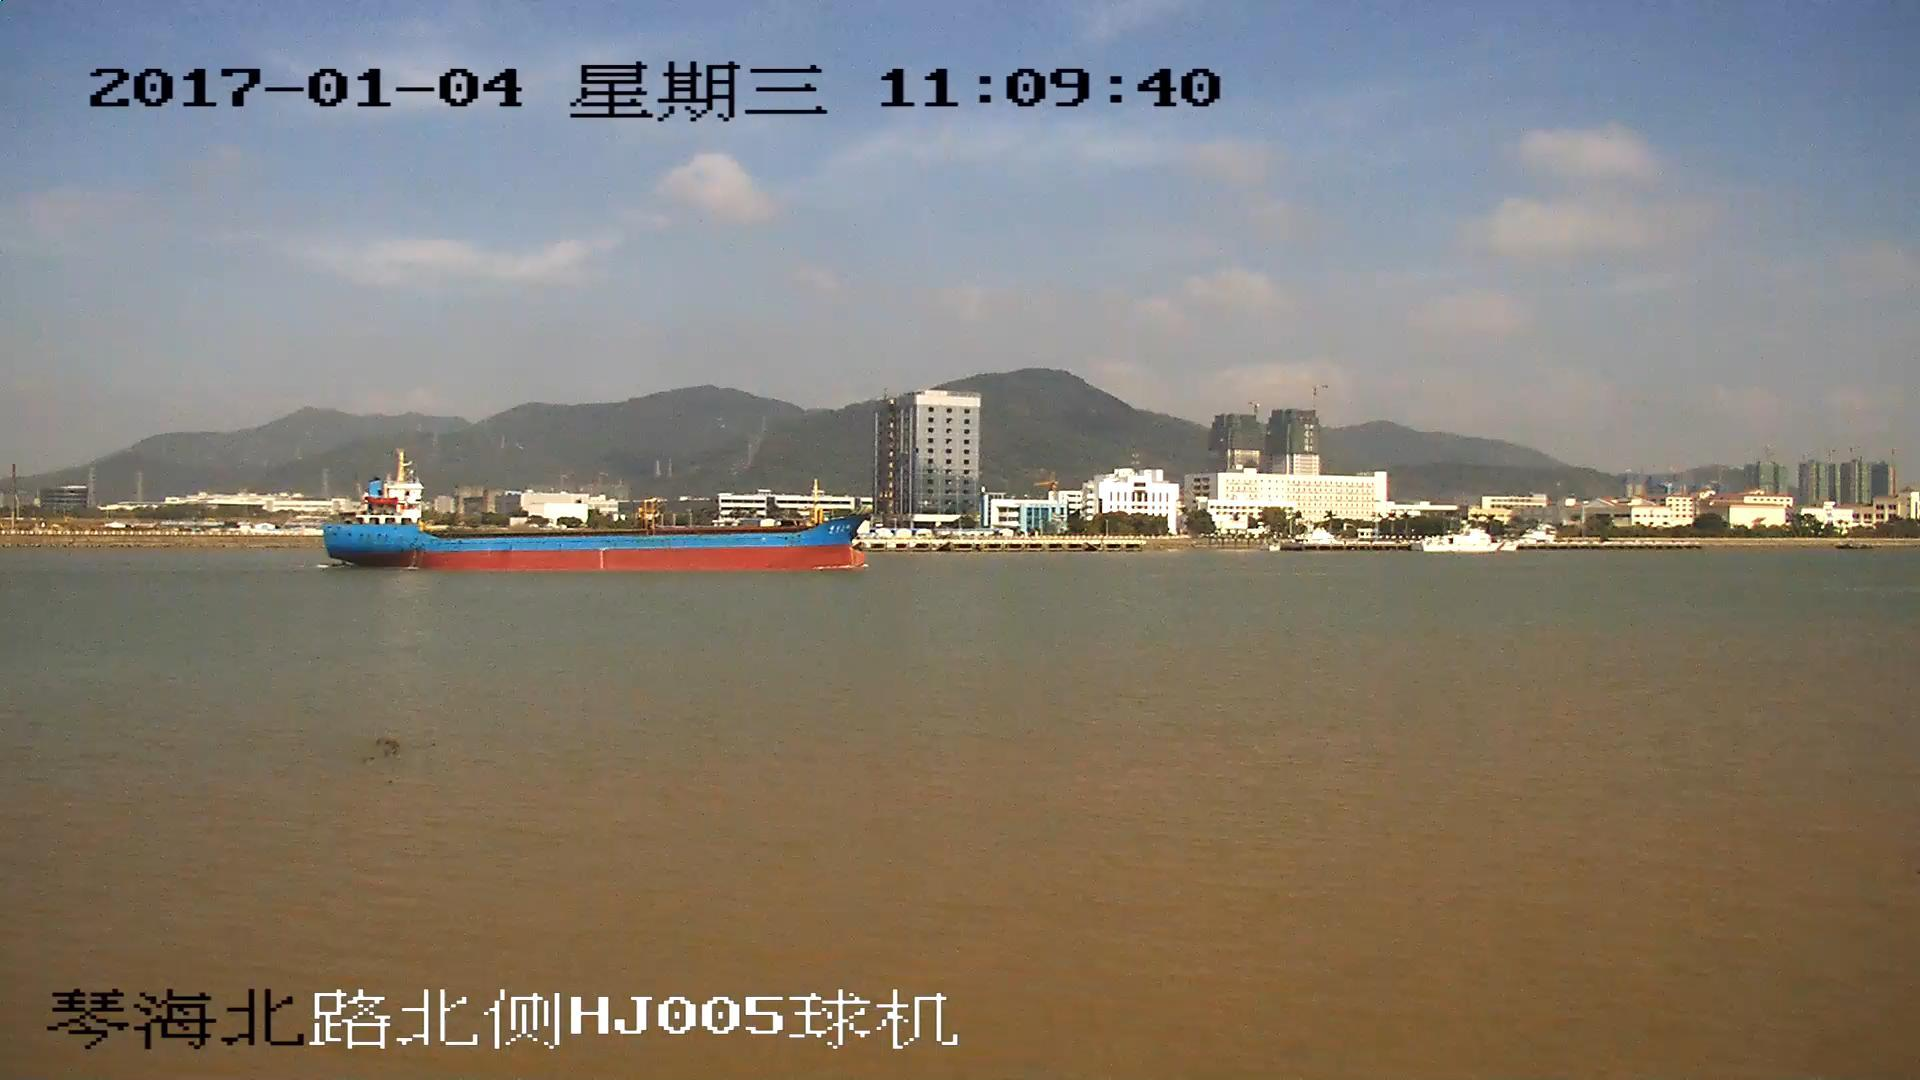Ship: (327, 450, 868, 578)
